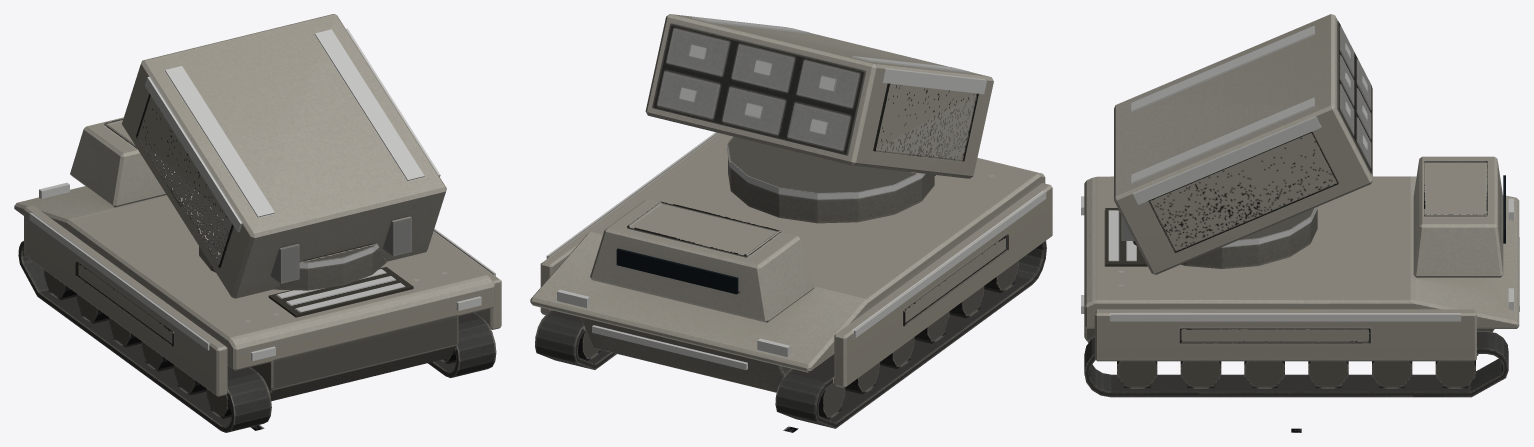
The model's file is ord_judgement.fbx.
3 renders of one model, left to right at view 1: azimuth 30°, elevation 25°; view 2: azimuth 150°, elevation 25°; view 3: azimuth 270°, elevation 25°, orthographic. The views are drawn at different scales.
Visible parts, largest first — view 1: base_bar, launcher_bar, launcher_glow_running_bar, turret_bar, base_glow_running_bar, turret_glow_running_bar; view 2: base_bar, launcher_bar, turret_bar, base_glow_running_bar, launcher_glow_running_bar, turret_glow_running_bar, launcher_glow_weapon_bar, base_glow_head_bar; view 3: base_bar, launcher_bar, launcher_glow_running_bar, base_glow_running_bar, turret_bar, turret_glow_running_bar.
Part boxes in pixels (<box>): base_bar: <box>14,117,501,432</box>; launcher_bar: <box>122,14,446,298</box>; launcher_glow_running_bar: <box>144,28,440,232</box>; turret_bar: <box>199,216,411,290</box>; base_glow_running_bar: <box>29,213,495,361</box>; turret_glow_running_bar: <box>211,243,379,268</box>; base_bar: <box>530,133,1052,428</box>; launcher_bar: <box>645,14,993,178</box>; turret_bar: <box>727,112,951,223</box>; base_glow_running_bar: <box>546,132,1046,370</box>; launcher_glow_running_bar: <box>692,16,986,94</box>; turret_glow_running_bar: <box>727,145,925,199</box>; launcher_glow_weapon_bar: <box>679,44,836,134</box>; base_glow_head_bar: <box>557,289,790,357</box>; base_bar: <box>1084,156,1519,397</box>; launcher_bar: <box>1114,14,1372,274</box>; launcher_glow_running_bar: <box>1131,26,1321,204</box>; base_glow_running_bar: <box>1081,176,1519,321</box>; turret_bar: <box>1121,207,1317,268</box>; turret_glow_running_bar: <box>1222,206,1318,247</box>.
Size of the model in its own units: 616 by 771 by 827.
Materials: 2 (2 with a texture image).
